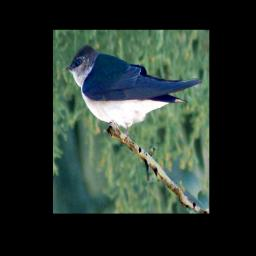Swallow: (63, 45, 202, 145)
